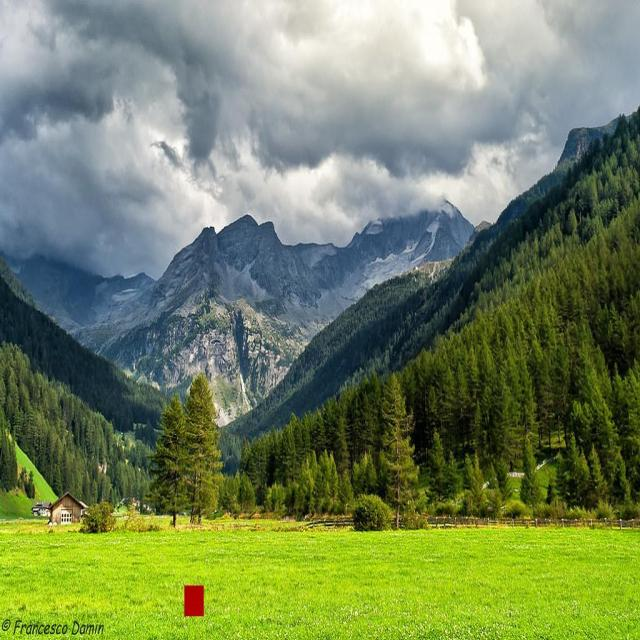RedSquare: (182, 580, 207, 625)
